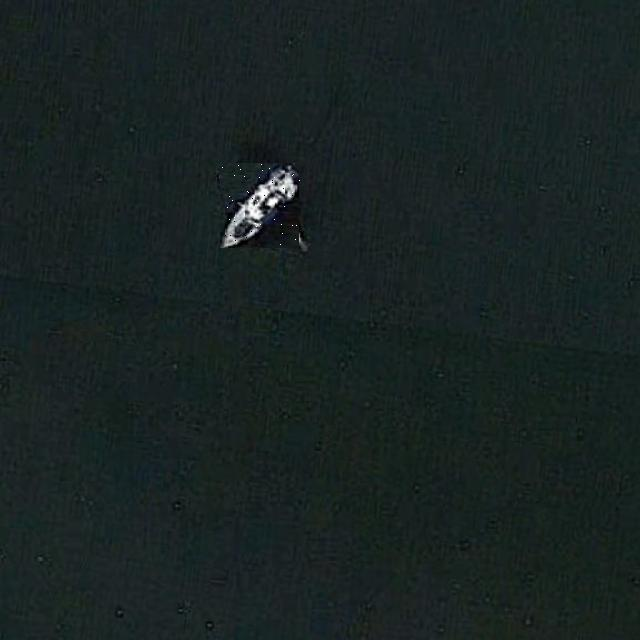boat: (218, 164, 301, 248)
